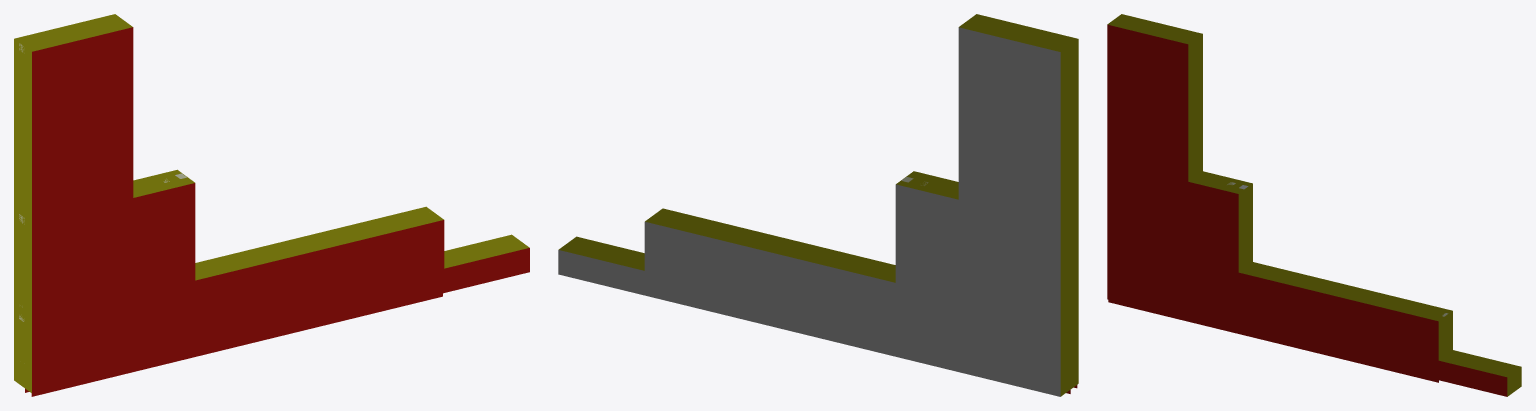
File: idf.obj
3 renders of one model, left to right at view 1: azimuth 30°, elevation 25°; view 2: azimuth 150°, elevation 25°; view 3: azimuth 330°, elevation 25°, orthographic. The views are drawn at different scales.
Size of the model in its own units: 64 by 42.61 by 4.
